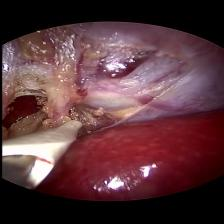Hook: (0, 114, 86, 191)
